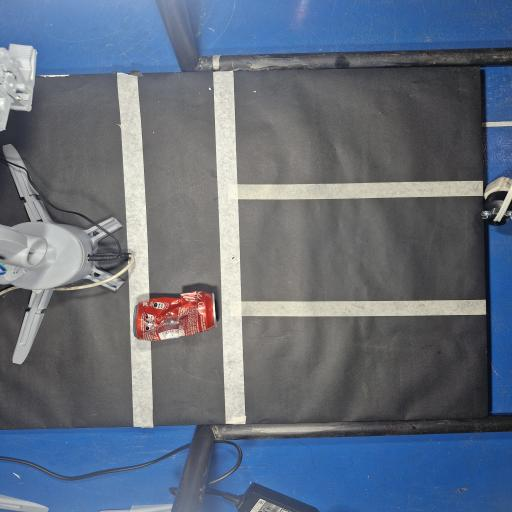lata_defectuoso: (134, 291, 216, 341)
